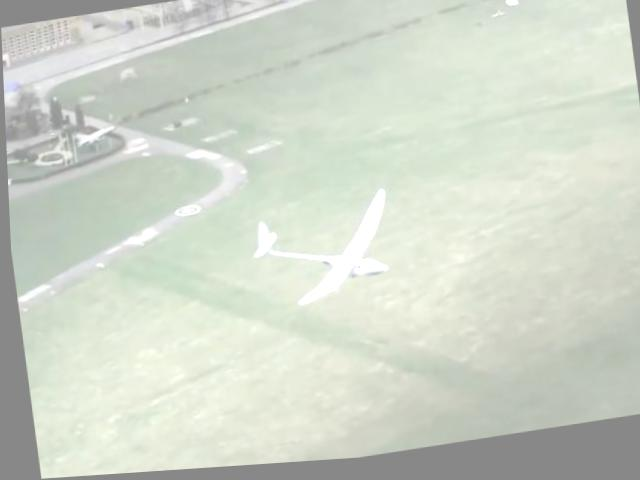flying wing: (242, 187, 397, 321)
